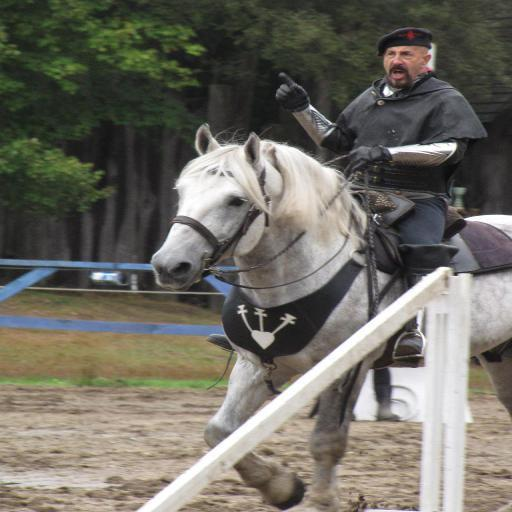horse: (146, 120, 512, 512)
